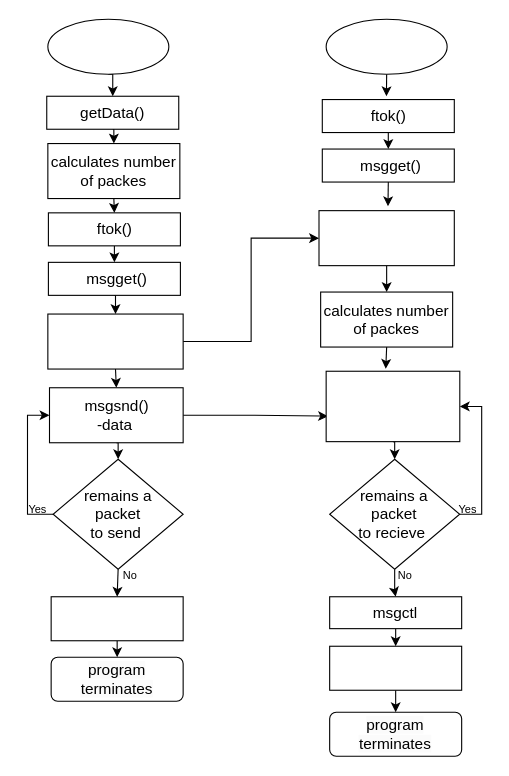
Image size: 509x776. Some labels were removed from this diagram. Here are the shapes that lost their labels. From the top down, the centre of each, then its label:
At (x=108, y=46): "SENDER".
At (x=386, y=46): "RECIEVER".
At (x=386, y=238): "msgrcv() -dataSize".
At (x=115, y=341): "msgsnd() -dataSize".
At (x=392, y=406): "msgrcv() -data -saveData()".
At (x=116, y=618): "show sender status".
At (x=395, y=667): "show reciever status".
